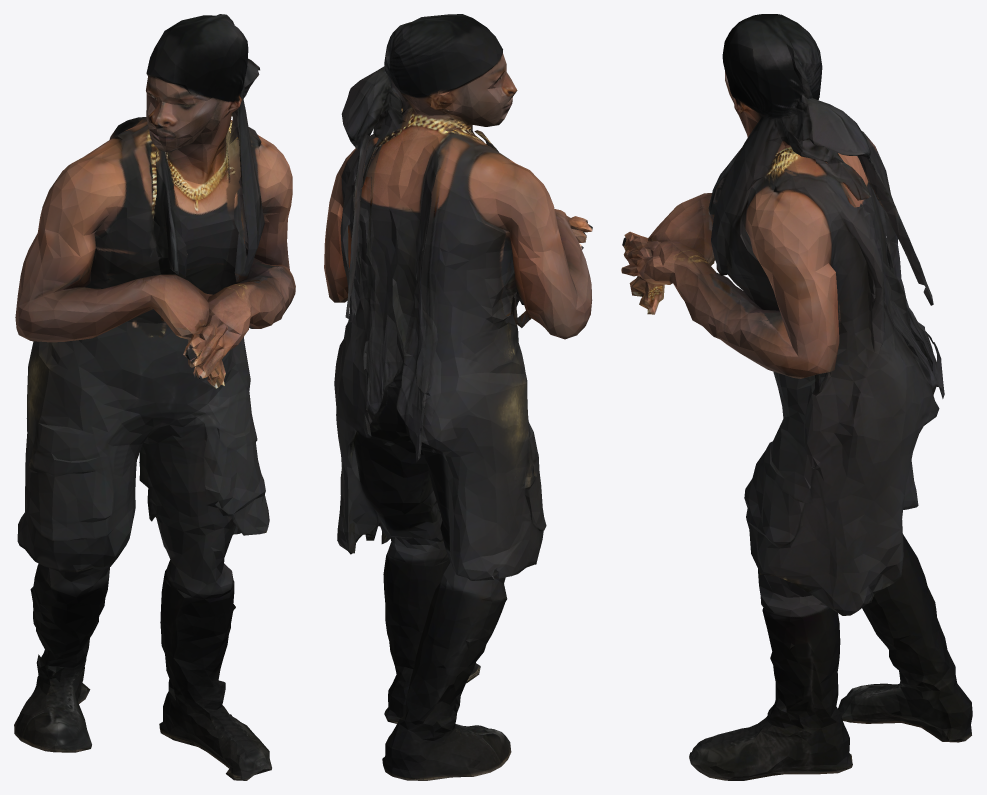
The model's file is Confused_Look_0425142200_texture.fbx.
3 renders of one model, left to right at view 1: azimuth 30°, elevation 25°; view 2: azimuth 150°, elevation 25°; view 3: azimuth 270°, elevation 25°, orthographic. The views are drawn at different scales.
Parts seen in each view (by area): view 1: temp; view 2: temp; view 3: temp.
Boxes of the visible parts, left/top/right/bottom form: temp: left=14, top=14, right=295, bottom=780; temp: left=324, top=14, right=592, bottom=780; temp: left=621, top=14, right=972, bottom=780.
Bounding box in the file's own units: 77.62 × 200 × 86.57.
Materials: 1 (1 with a texture image).
